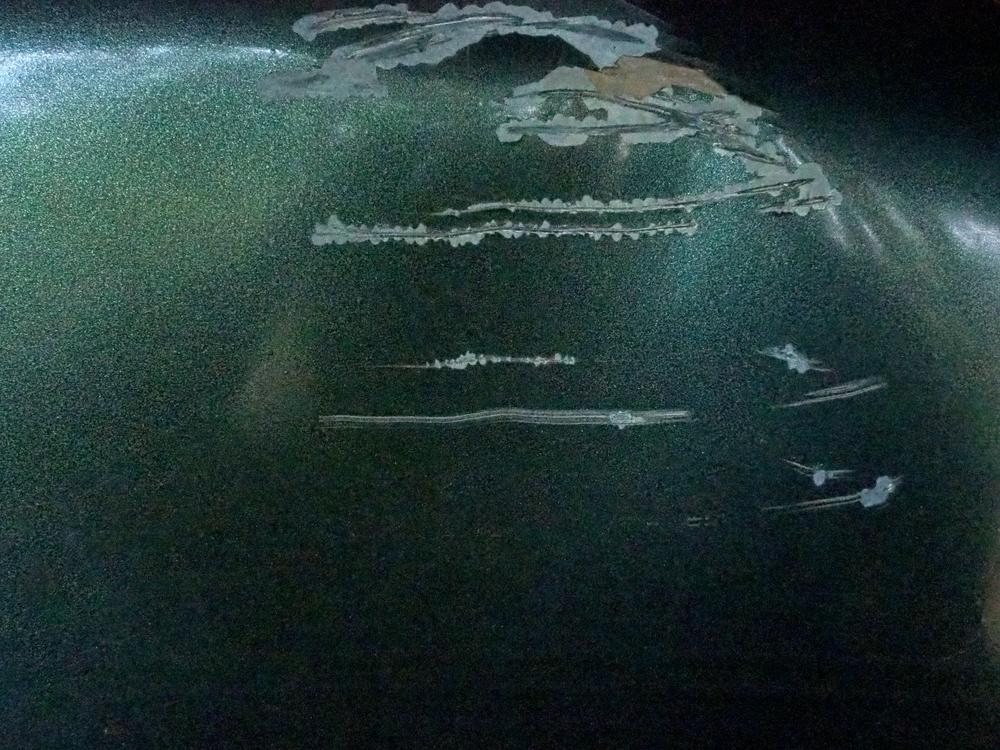scratch: (276, 0, 908, 537)
